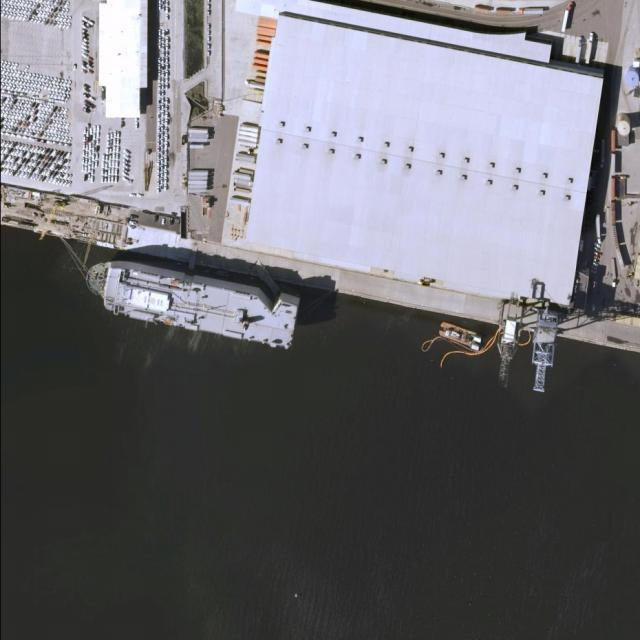Other Ship: (436, 319, 484, 352)
RoRo: (76, 250, 306, 352)
